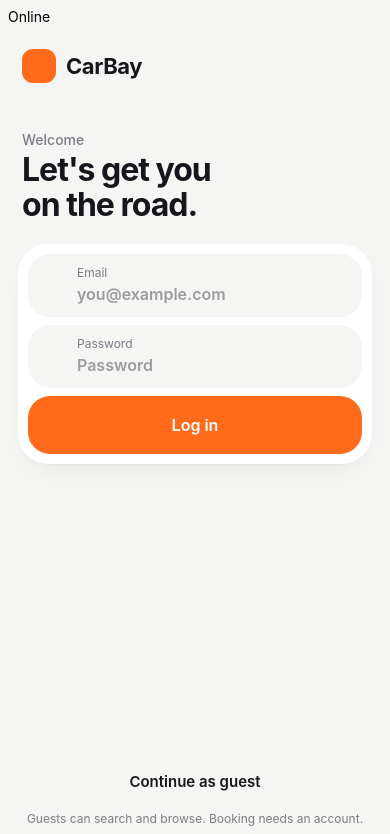
Test: login screen › goes to the tabs on a successful login
The width and height of the screenshot is (390, 834).
Type "admin@testuser.com" into the field with placeholder "you@example.com" at (211, 294), box [77,282,345,306]
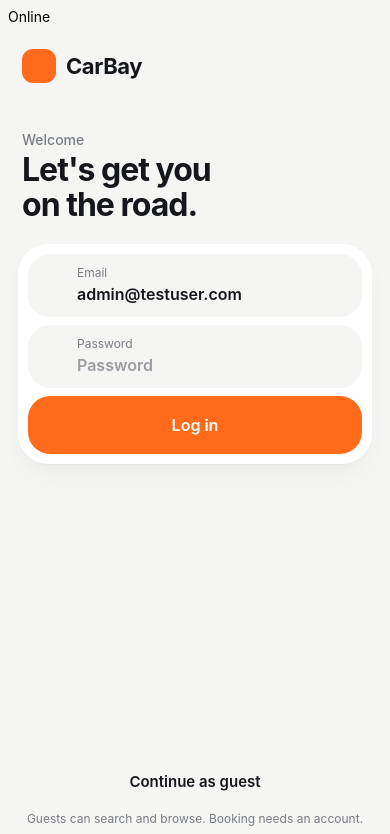
Type "12345678" into the password field with placeholder "Password" at (211, 365), box [77,353,345,377]
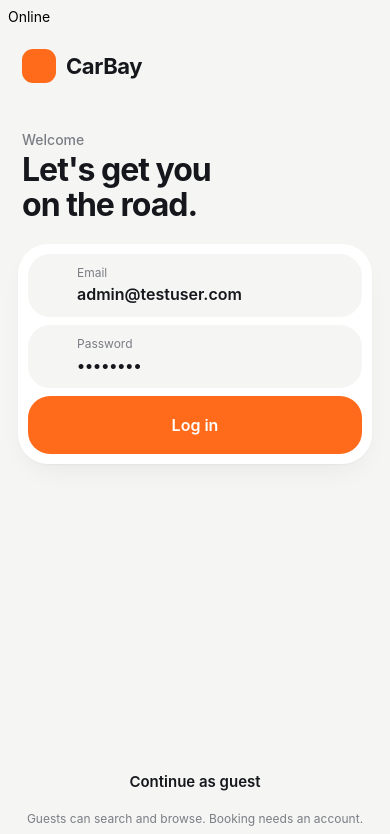
Click the button "Log in" at (195, 425), box [28,396,362,454]
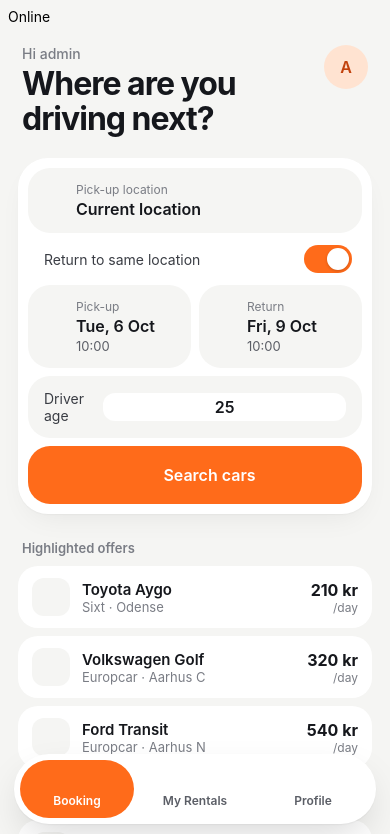
Expected: the text "Search cars" is shown, [163,465,256,485]
